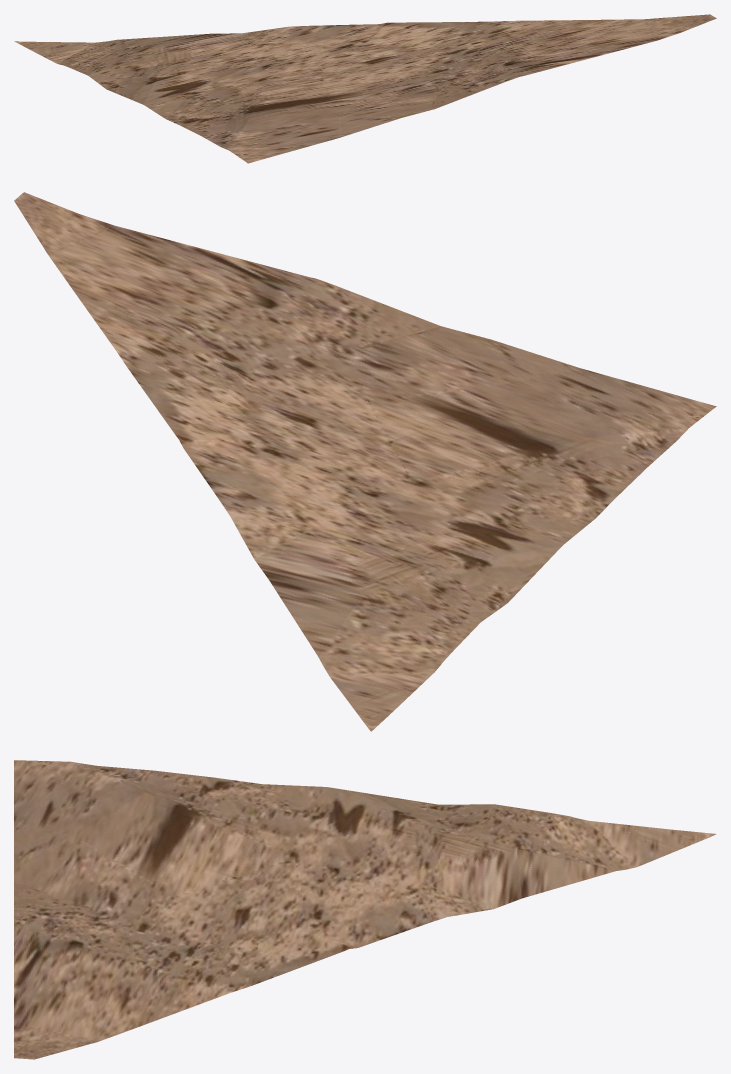
The picture shows the model from 3 angles, top to bottom: view 1: azimuth 30°, elevation 25°; view 2: azimuth 150°, elevation 25°; view 3: azimuth 270°, elevation 25°; orthographic projection. The views are drawn at different scales.
Bounding box in the file's own units: 4.18 × 0.6778 × 3.61.
1 material, 1 textured.
